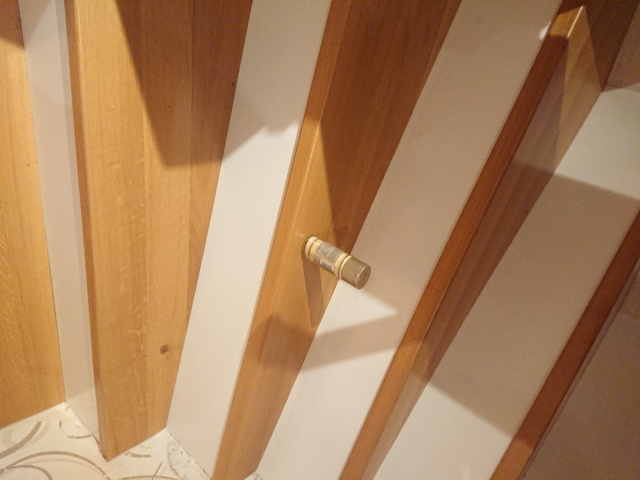Kotanyi Garlic Granules 70g: (300, 233, 373, 291)
